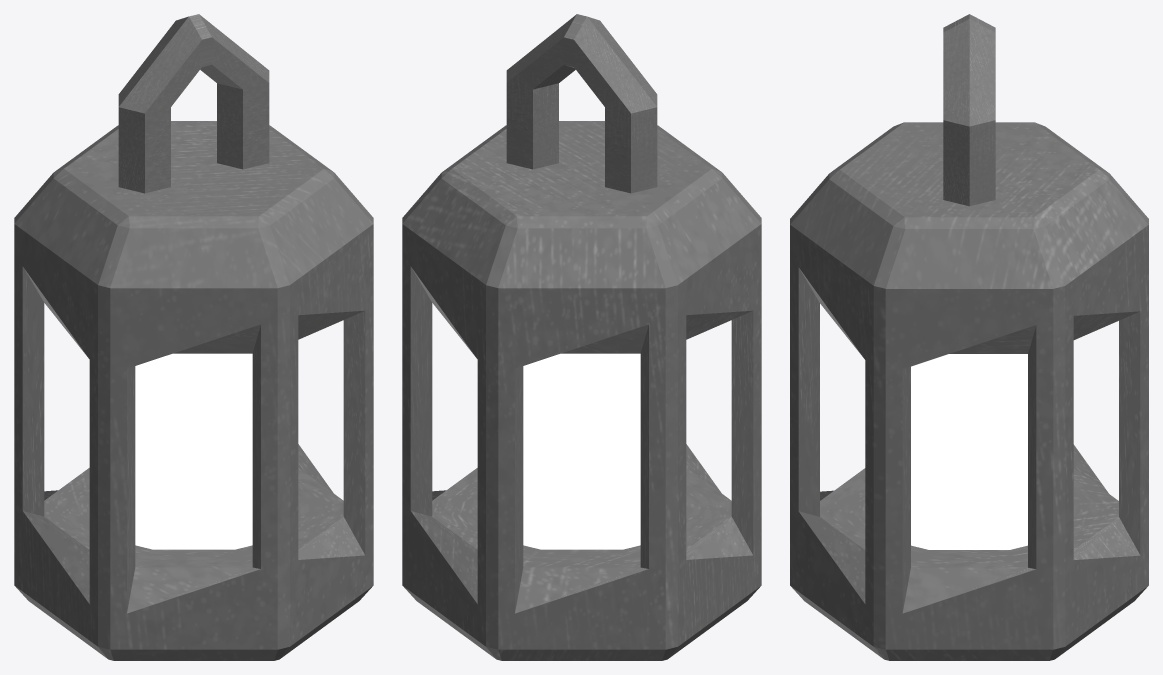
Rendered from Lantern.fbx.
The picture shows the model from 3 angles, left to right: view 1: azimuth 30°, elevation 25°; view 2: azimuth 150°, elevation 25°; view 3: azimuth 270°, elevation 25°; orthographic projection.
Visible parts, largest first — view 1: lantern; view 2: lantern; view 3: lantern.
Part boxes in pixels (bbox=[...]): lantern: bbox=[14, 14, 373, 660]; lantern: bbox=[402, 14, 761, 660]; lantern: bbox=[790, 14, 1148, 660].
Size of the model in its own units: 44.39 by 89.98 by 50.14.
